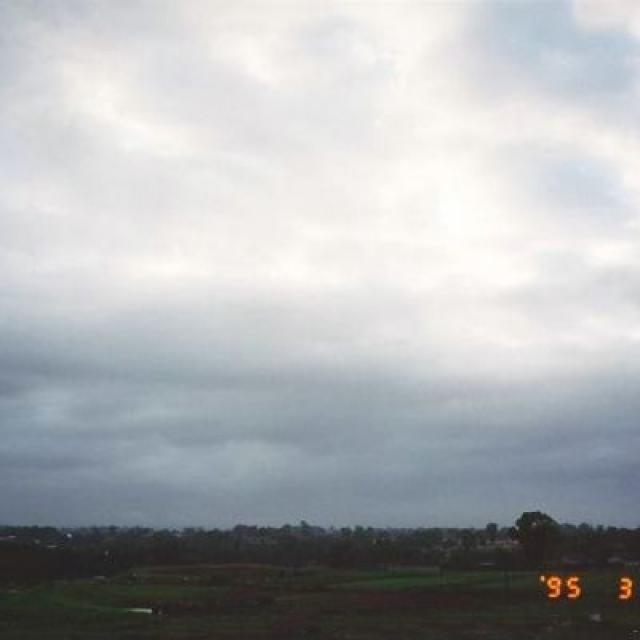Sc: (1, 79, 640, 451)
